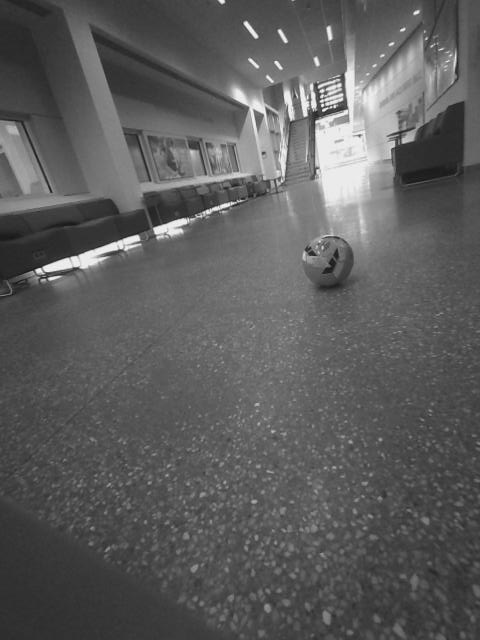ball: (299, 227, 356, 292)
